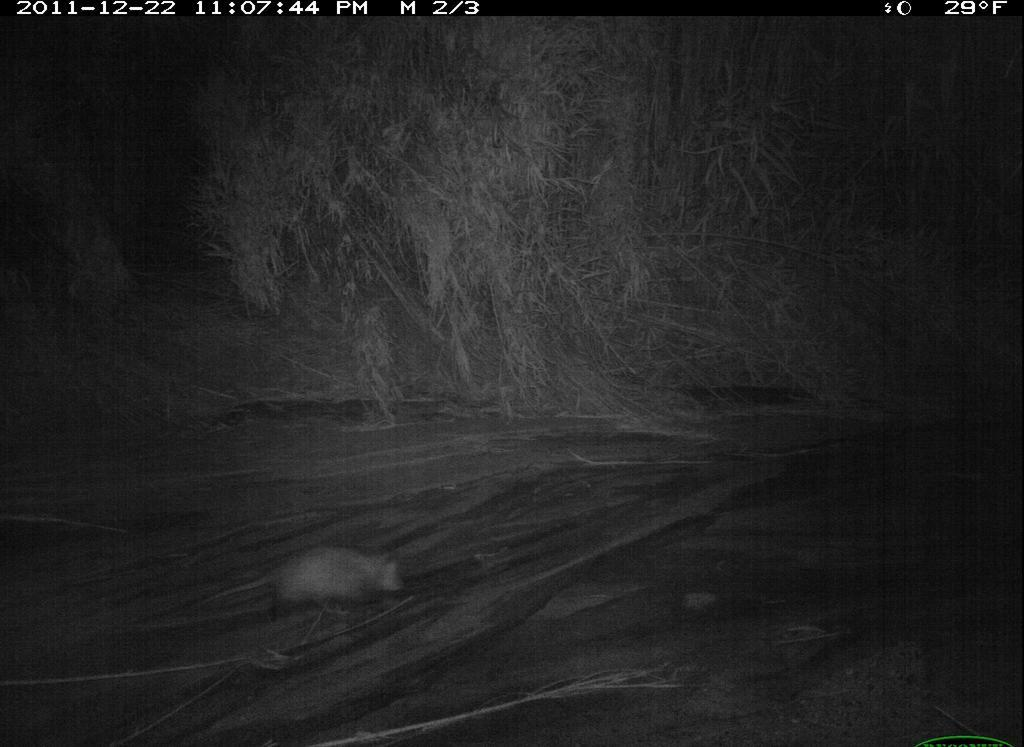opossum: (194, 538, 419, 639)
